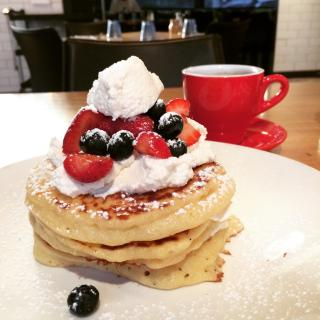Pancake: (24, 174, 245, 288)
